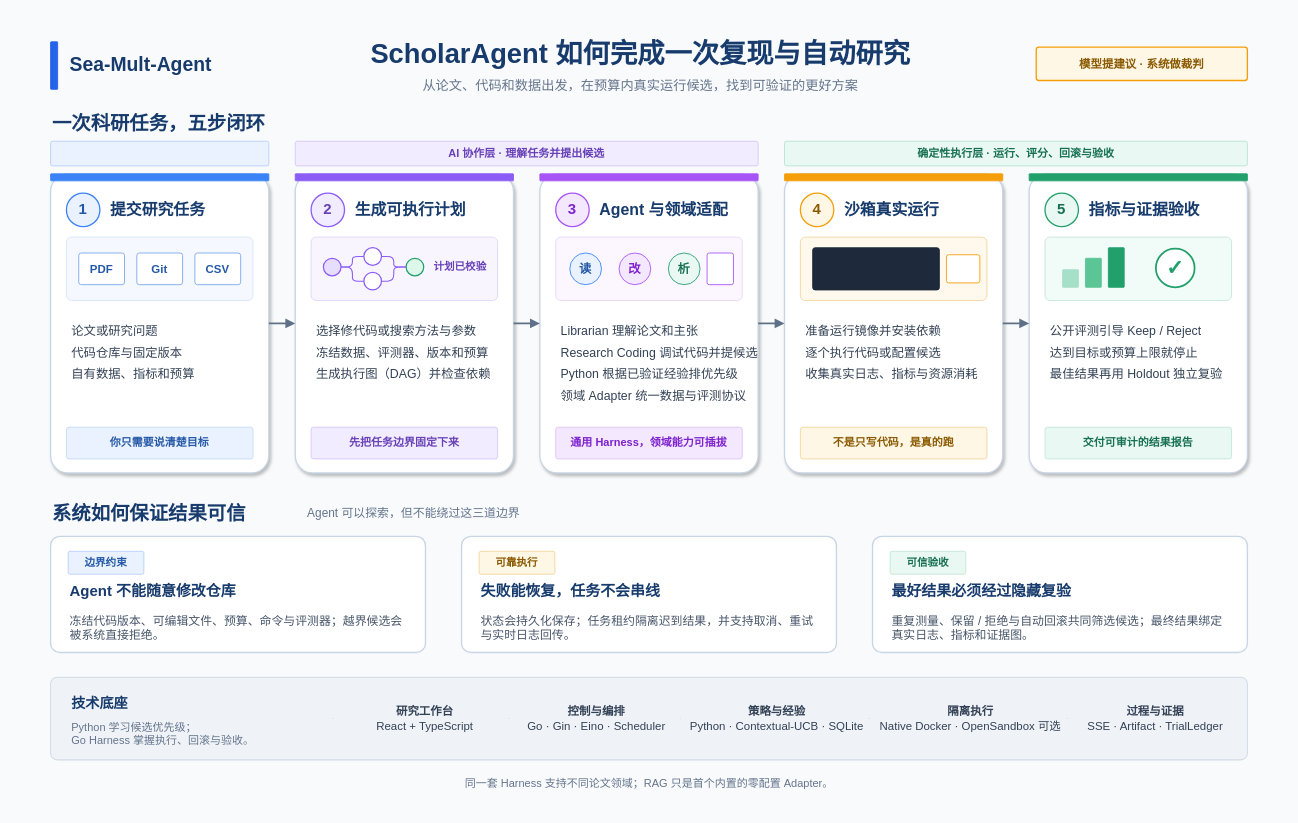
This 1298x823 diagram has some shape labels left out. The centre of each missing label's shape, as x and y in pixels:
"> run experiment.py metrics.json created" belongs at [875,268].
"Docker" belongs at [963,268].
"你提供材料与目标" belongs at [159,153].
"协作" belongs at [719,268].
